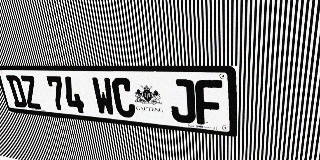4: (61, 76, 86, 113)
7: (45, 76, 69, 112)
C: (111, 78, 136, 118)
D: (5, 75, 28, 108)
F: (195, 79, 223, 126)
J: (169, 79, 196, 124)
W: (91, 77, 116, 116)
Z: (19, 75, 42, 109)
